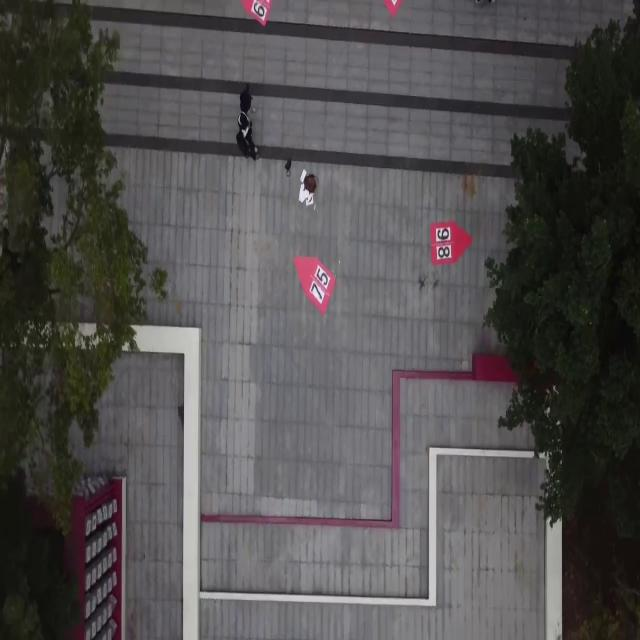-sign-: (293, 254, 336, 315), (430, 218, 472, 266)
